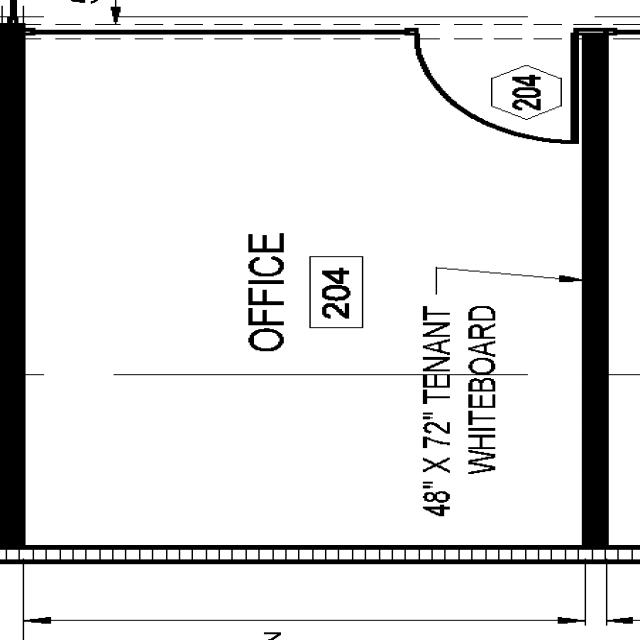Doors: (406, 22, 583, 148)
